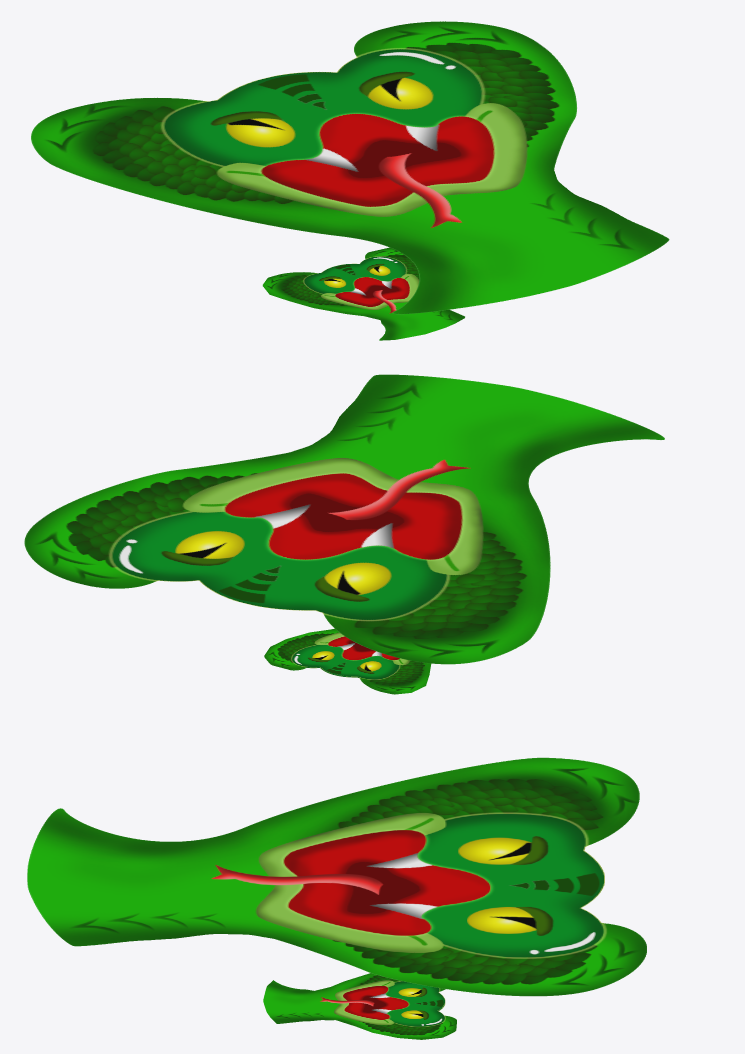
File: obstacle - snake.fbx
3 views of the same model, one above another, from view 1: azimuth 30°, elevation 25°; view 2: azimuth 150°, elevation 25°; view 3: azimuth 270°, elevation 25° (orthographic).
Parts seen in each view (by area): view 1: pasted__pCylinder2, group2_pasted__pCylinder2; view 2: pasted__pCylinder2, group2_pasted__pCylinder2; view 3: pasted__pCylinder2, group2_pasted__pCylinder2.
Boxes of the visible parts, x1,y1,x2,y2 form: pasted__pCylinder2: (31, 21, 669, 314); group2_pasted__pCylinder2: (262, 247, 464, 340); pasted__pCylinder2: (24, 374, 664, 664); group2_pasted__pCylinder2: (264, 628, 431, 694); pasted__pCylinder2: (27, 757, 646, 996); group2_pasted__pCylinder2: (263, 973, 456, 1039).
Size of the model in its own units: 20 by 3.93 by 20.
1 material, 1 textured.
